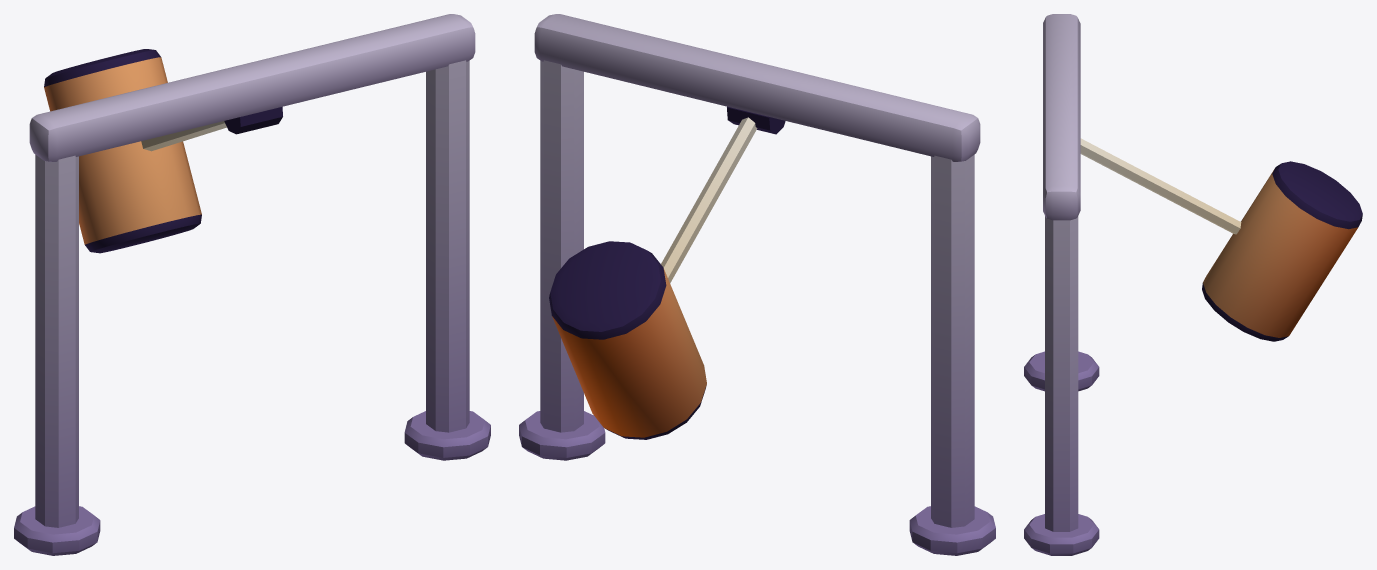
File: obstacle_pendulum_hammer.glb
3 views of the same model, side by side, from view 1: azimuth 30°, elevation 25°; view 2: azimuth 150°, elevation 25°; view 3: azimuth 270°, elevation 25° (orthographic). The views are drawn at different scales.
Visible parts, largest first — view 1: HammerFrame, HammerArm; view 2: HammerFrame, HammerArm; view 3: HammerFrame, HammerArm.
Boxes of the visible parts, <box> form: HammerFrame: <box>14,14,490,555</box>; HammerArm: <box>44,49,282,253</box>; HammerFrame: <box>519,14,995,555</box>; HammerArm: <box>549,106,785,439</box>; HammerFrame: <box>1024,14,1099,555</box>; HammerArm: <box>1080,138,1362,341</box>.
Size of the model in its own units: 5.46 by 4.78 by 4.05.
